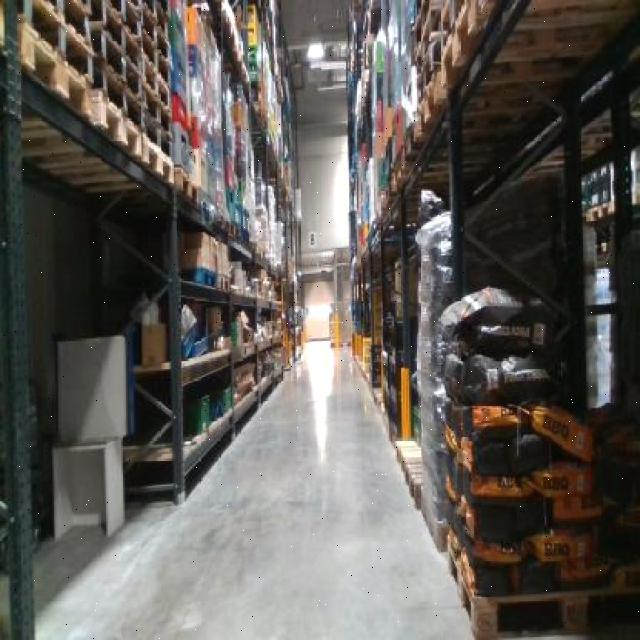pallet: (443, 541, 638, 640), (8, 26, 94, 127), (12, 0, 98, 92), (86, 78, 146, 162), (90, 49, 149, 127), (139, 136, 174, 186)
